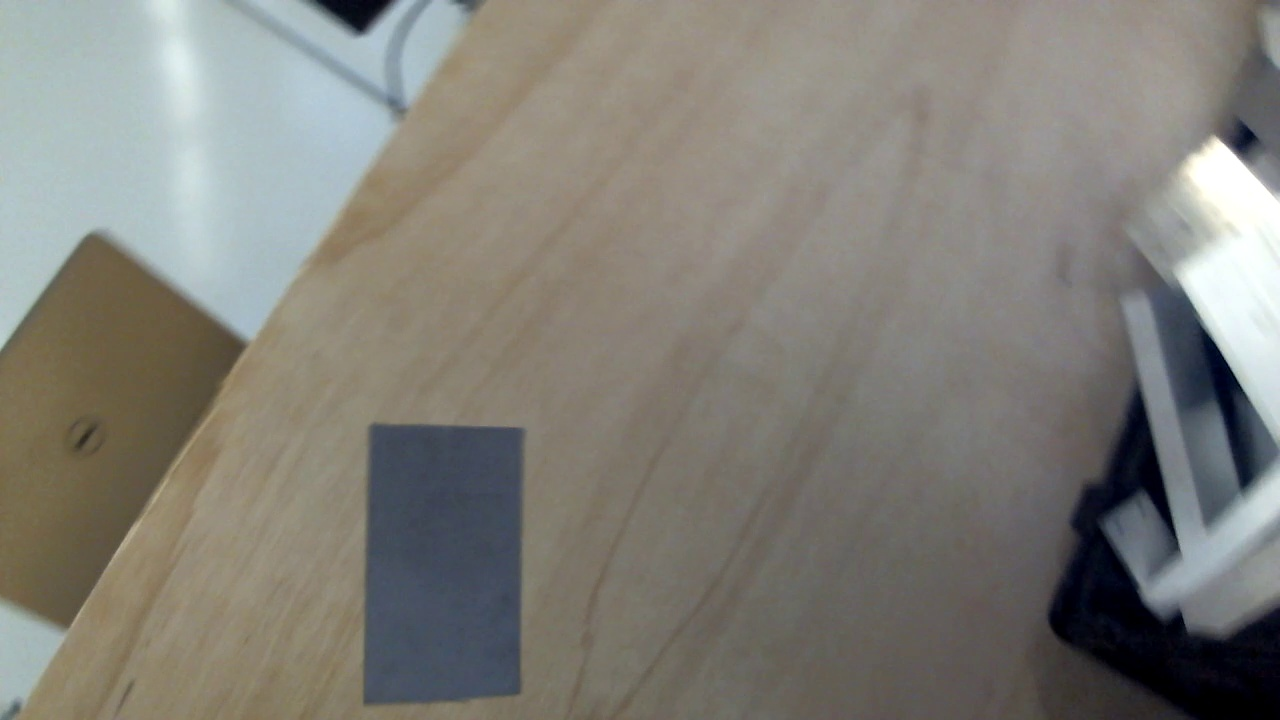Tape: (363, 424, 524, 703)
